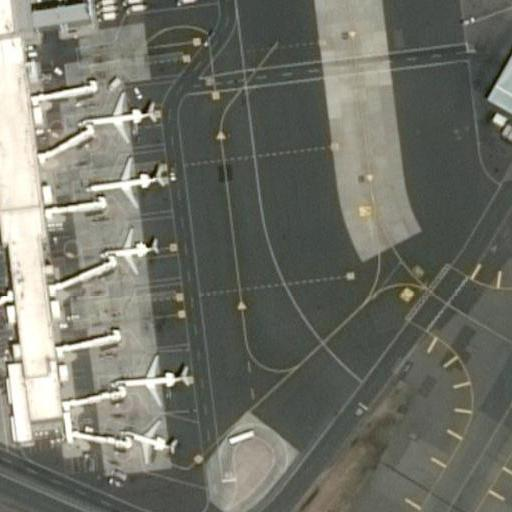Aircraft: (87, 402, 196, 469), (73, 70, 164, 150), (68, 152, 176, 215), (99, 344, 193, 410), (85, 217, 166, 284)
